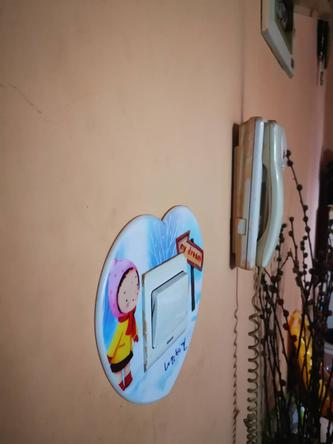switch: (143, 284, 197, 332)
